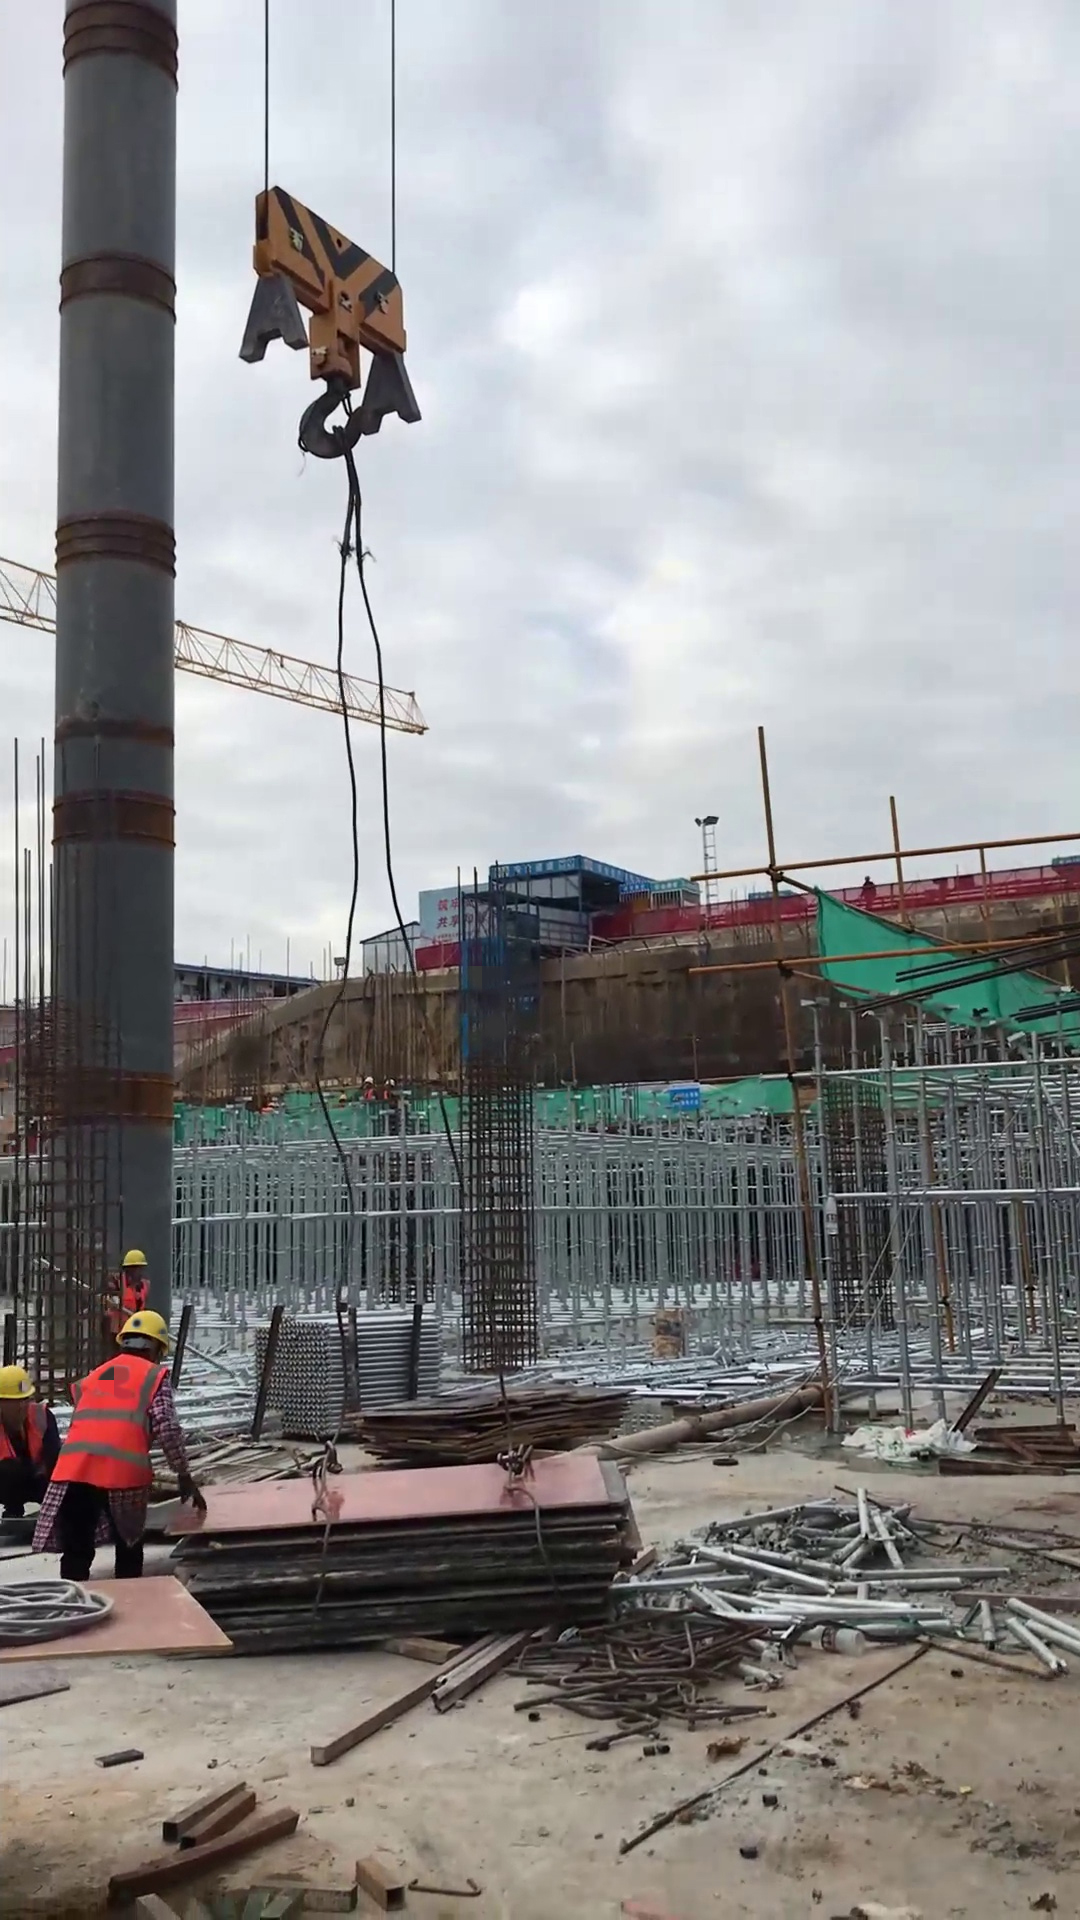board: (159, 1451, 652, 1658), (345, 1370, 647, 1470)
fence: (623, 856, 1073, 944)
helmet: (108, 1305, 174, 1353), (1, 1364, 39, 1404), (115, 1243, 150, 1273)
hook: (228, 165, 435, 470)
person: (53, 1310, 212, 1591), (1, 1359, 66, 1524), (100, 1242, 158, 1360)
scaffold: (259, 1296, 452, 1439)
vest: (53, 1354, 175, 1495), (1, 1401, 52, 1492), (112, 1275, 154, 1334)
